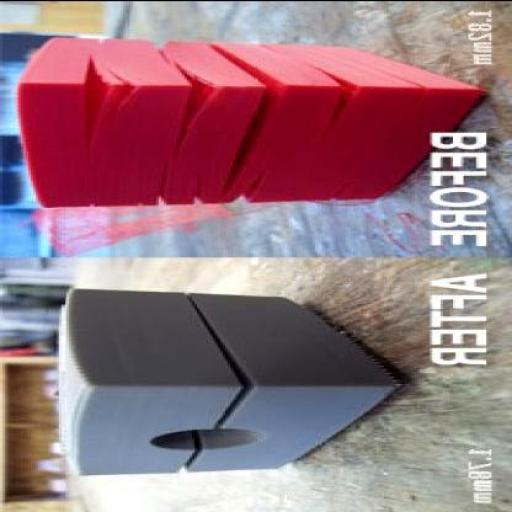cracks: (182, 302, 288, 423), (234, 51, 293, 158), (76, 50, 127, 159), (164, 57, 227, 142), (303, 60, 364, 144), (188, 165, 278, 209), (376, 66, 438, 128), (155, 455, 231, 482), (144, 158, 176, 210), (318, 181, 363, 209)
